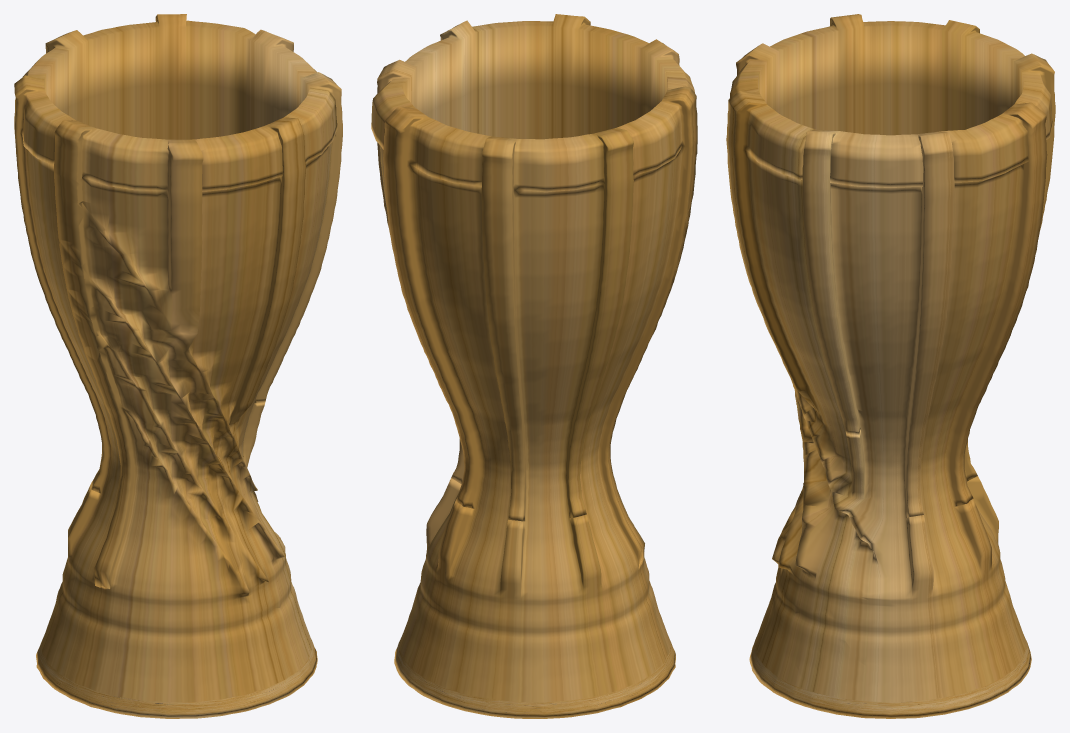
File: trophy.glb
The picture shows the model from 3 angles, left to right: view 1: azimuth 30°, elevation 25°; view 2: azimuth 150°, elevation 25°; view 3: azimuth 270°, elevation 25°; orthographic projection.
Visible parts, largest first — view 1: TAÇA; view 2: TAÇA; view 3: TAÇA.
Part boxes in pixels (x1,y1,x2,y2): TAÇA: (14,14,342,718); TAÇA: (371,14,697,718); TAÇA: (726,14,1055,718).
Bounding box in the file's own units: 2.7 × 5.45 × 2.8.
1 material, 1 textured.
